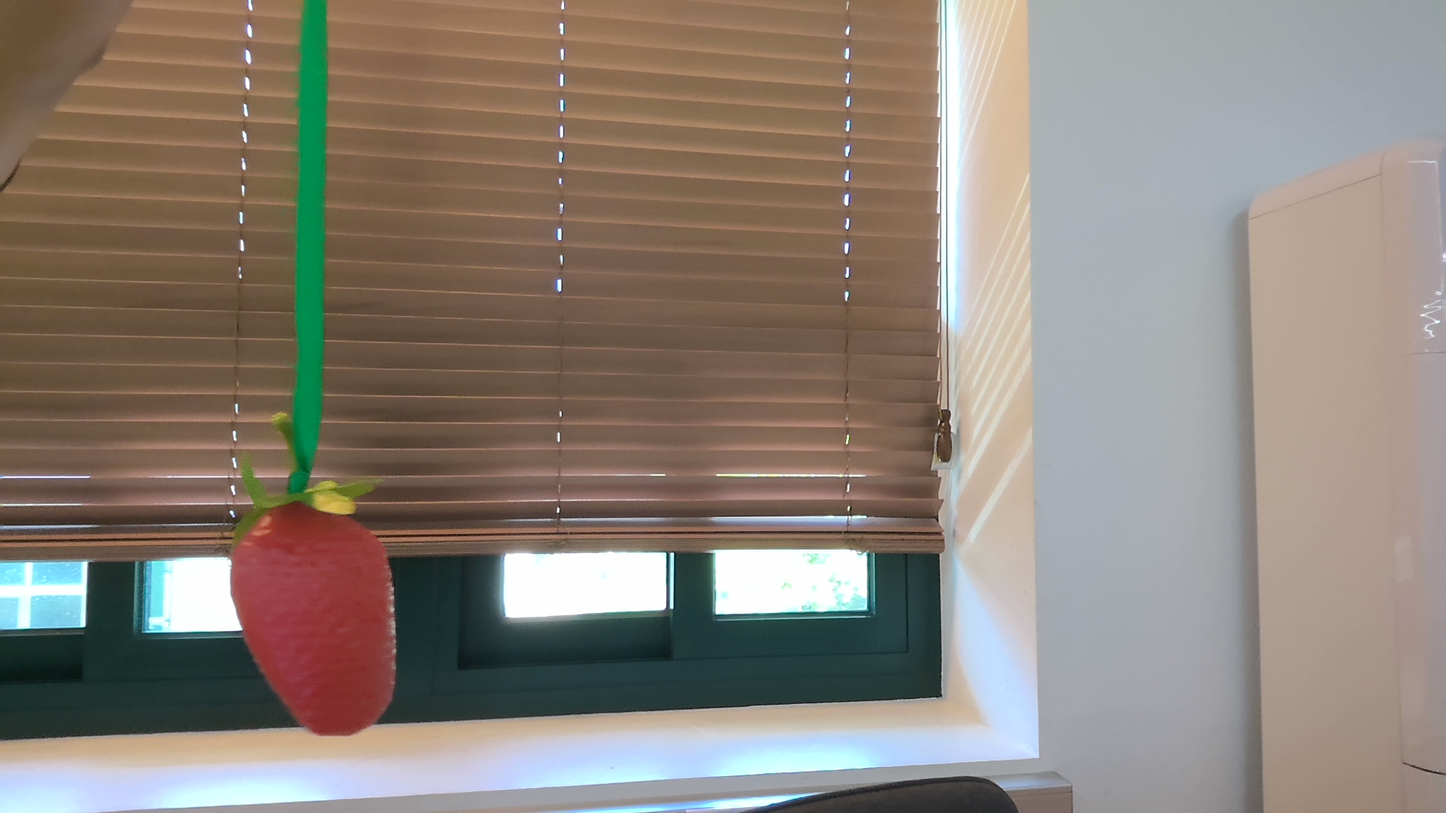strawberry: (213, 505, 416, 739)
